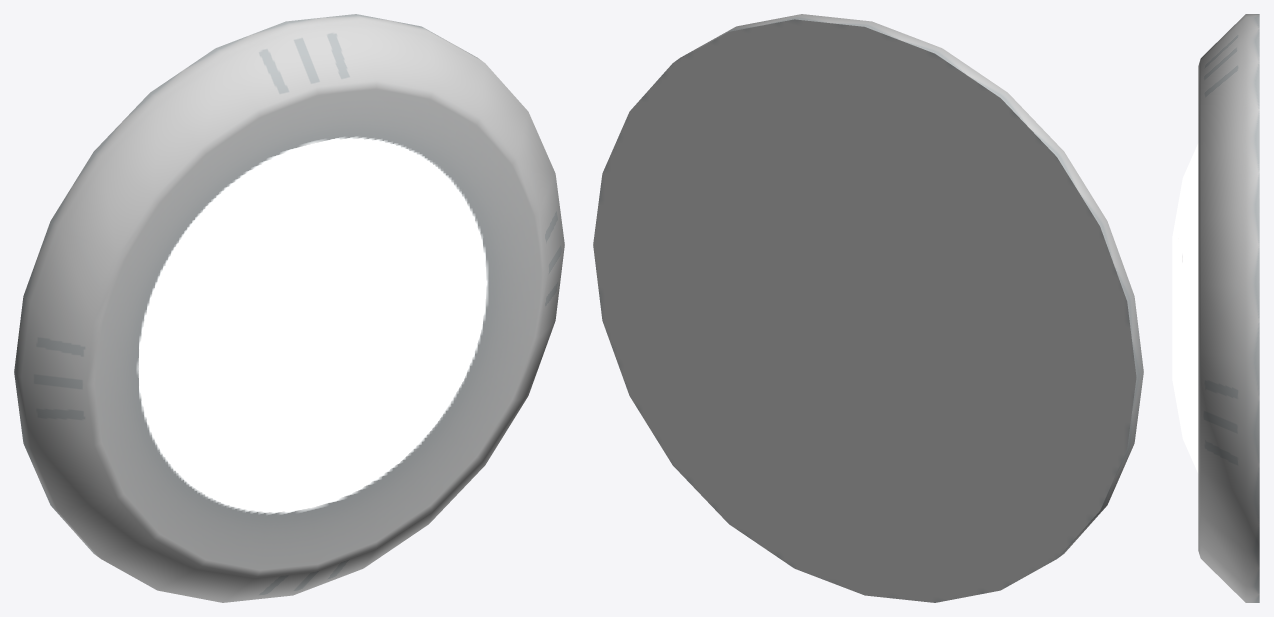
The model's file is PoolLight01_2.FBX.
The picture shows the model from 3 angles, left to right: view 1: azimuth 30°, elevation 25°; view 2: azimuth 150°, elevation 25°; view 3: azimuth 270°, elevation 25°; orthographic projection. The views are drawn at different scales.
Parts seen in each view (by area): view 1: PoolLight01_2; view 2: PoolLight01_2; view 3: PoolLight01_2.
Part boxes in pixels (x1,y1,x2,y2): PoolLight01_2: (14, 14, 564, 602); PoolLight01_2: (593, 14, 1143, 602); PoolLight01_2: (1172, 14, 1259, 602).
Size of what is drawn, in the model's own units: 0.2 by 0.2 by 0.0296.
